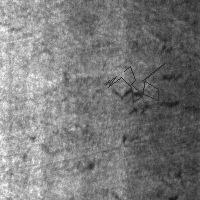crazing: (112, 69, 198, 150), (106, 62, 166, 102)
